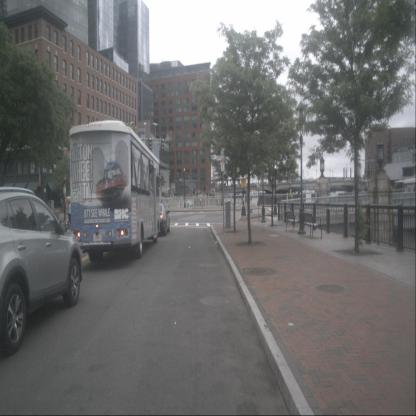human-pedestrian-adult: (67, 200, 72, 228), (297, 190, 302, 212), (289, 188, 293, 212), (60, 197, 64, 211)
vehicle-bus-rigid: (69, 120, 161, 261)
vehicle-car: (0, 186, 83, 355), (148, 203, 170, 235)
